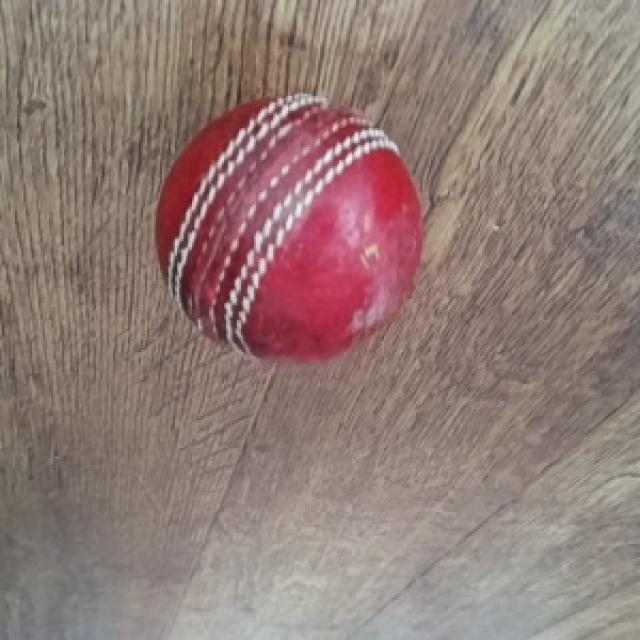ball: (154, 94, 427, 369)
